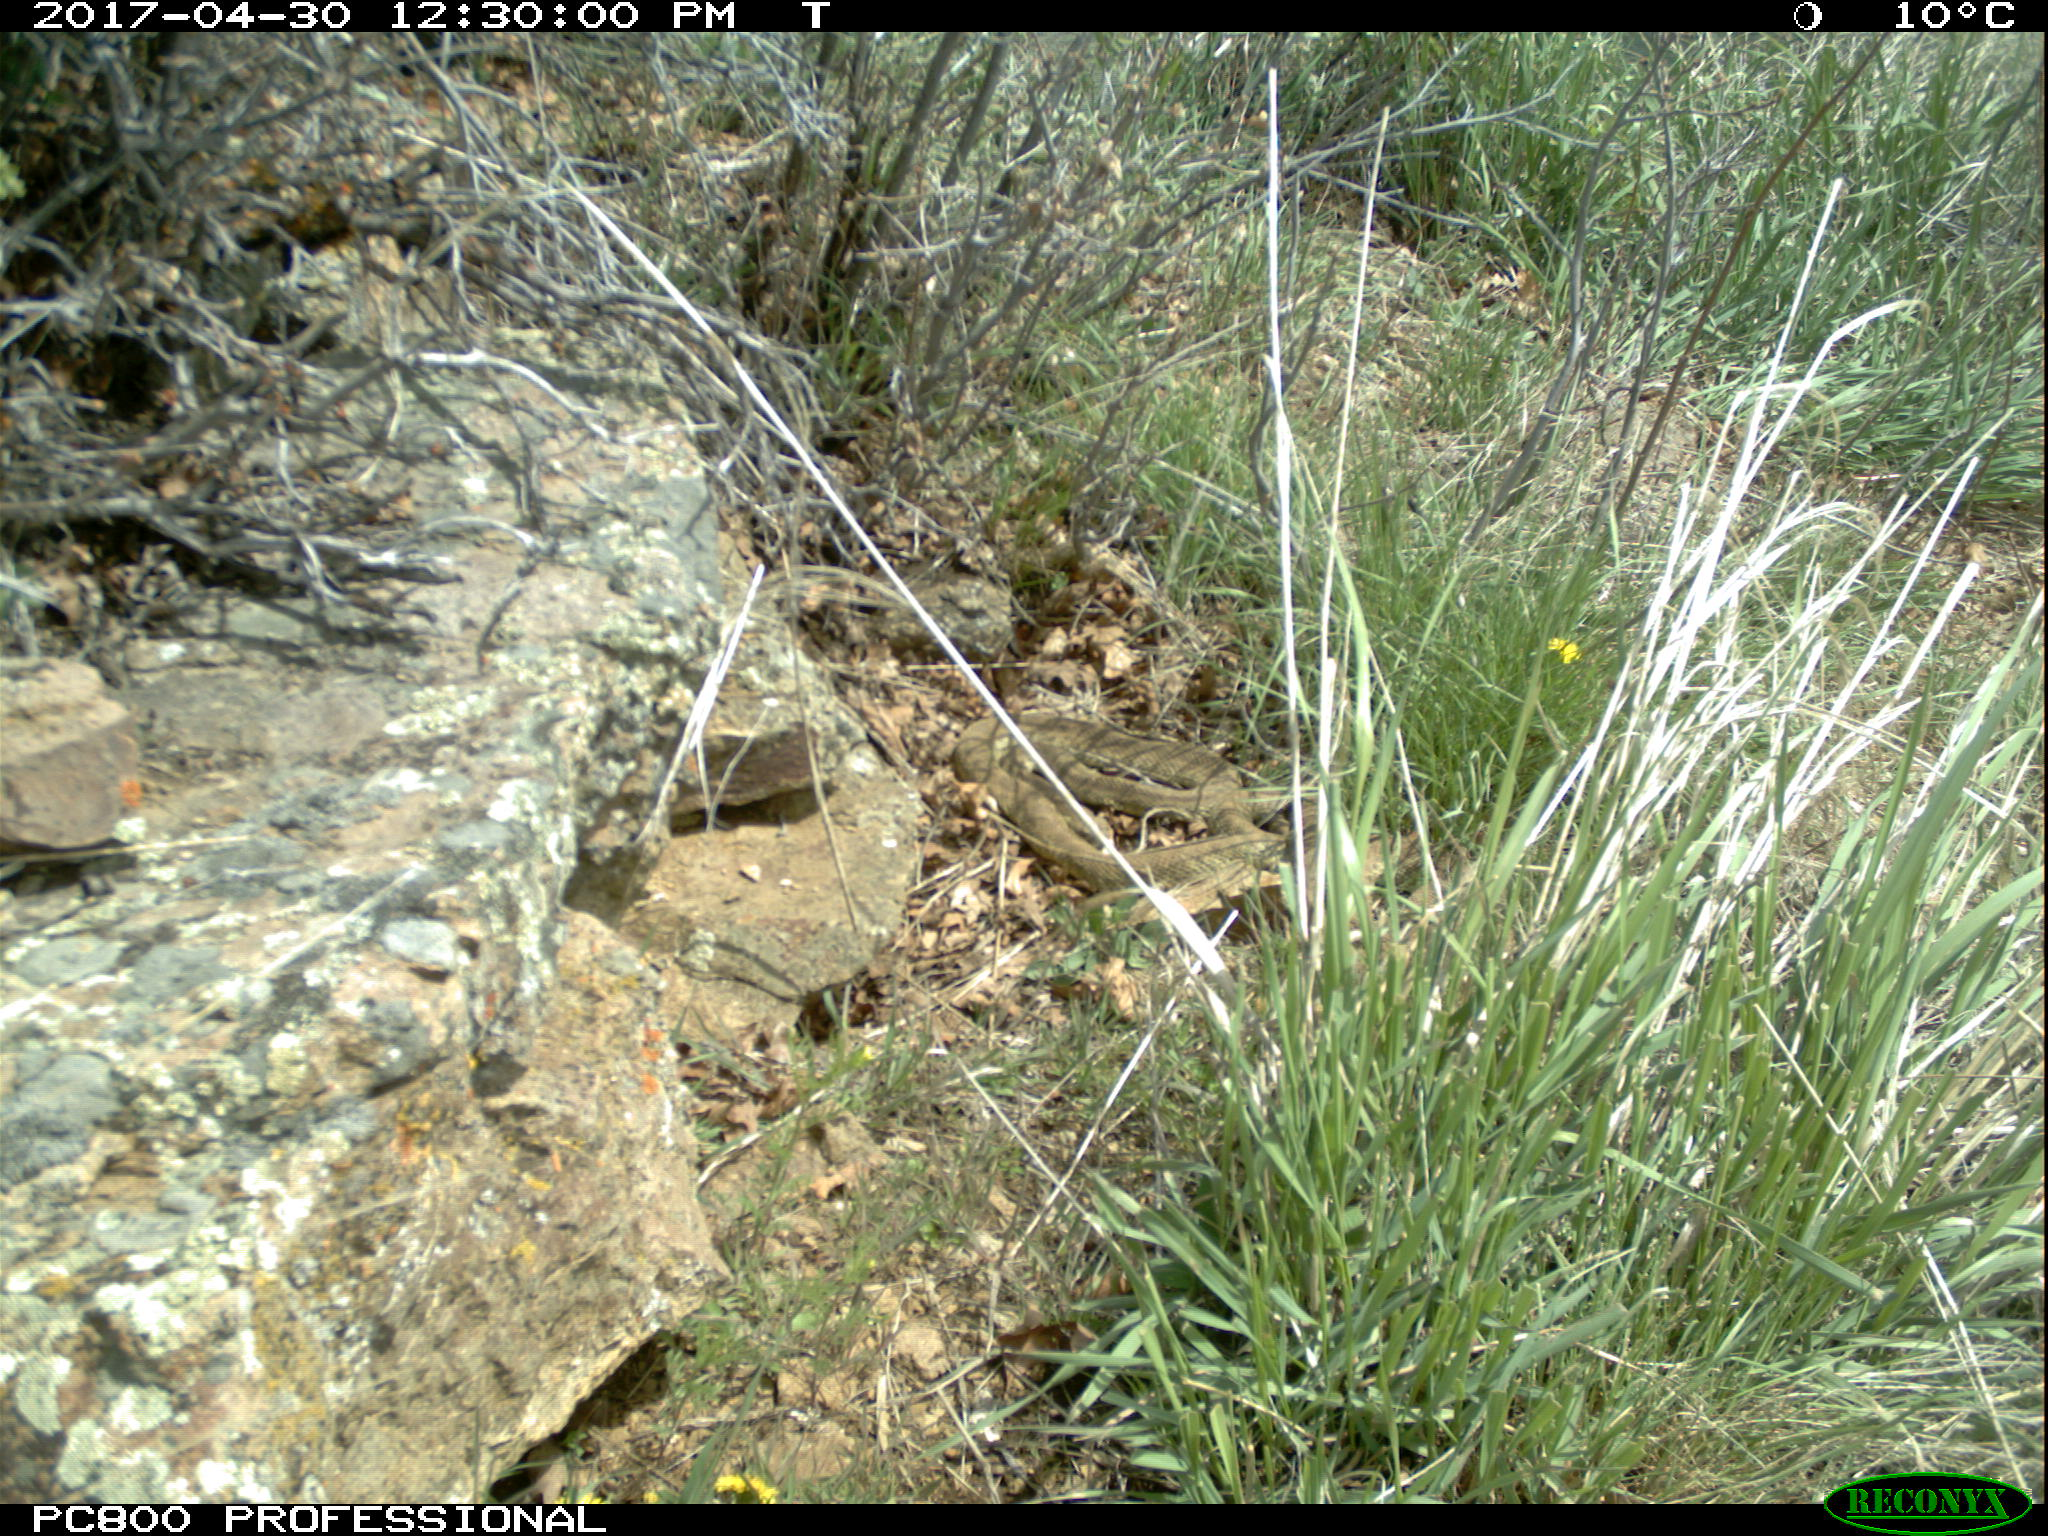snake: (943, 708, 1308, 887)
